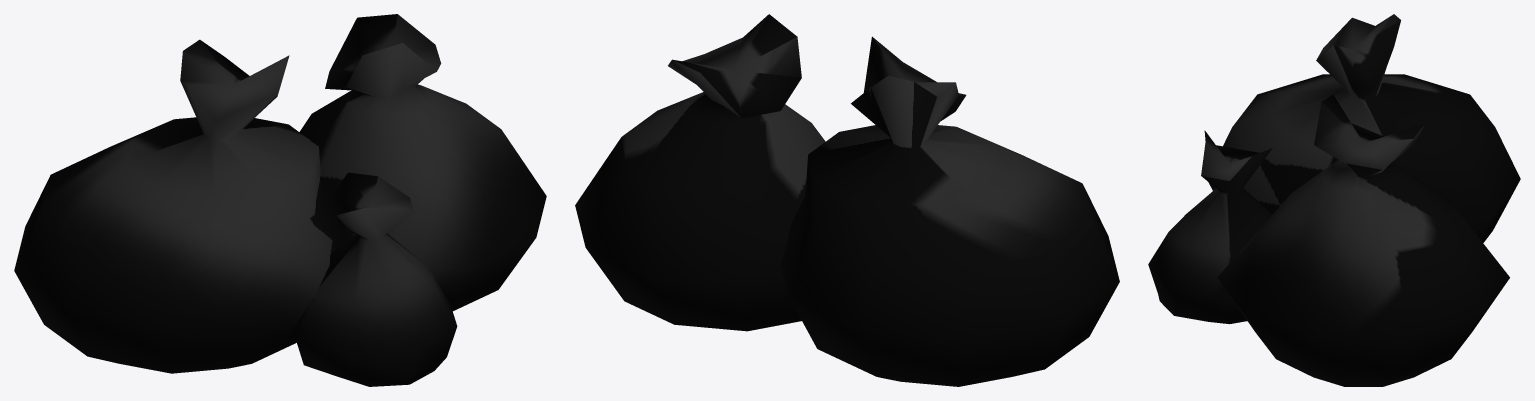
File: CityKit2.fbx_TrashBag.fbx
3 renders of one model, left to right at view 1: azimuth 30°, elevation 25°; view 2: azimuth 150°, elevation 25°; view 3: azimuth 270°, elevation 25°, orthographic. The views are drawn at different scales.
Visible parts, largest first — view 1: TrashBag; view 2: TrashBag; view 3: TrashBag.
Boxes of the visible parts, x1,y1,x2,y2 form: TrashBag: (14,14,546,386); TrashBag: (575,14,1119,386); TrashBag: (1148,14,1520,386).
Size of the model in its own units: 293 by 160 by 214.
Materials: 1 (1 with a texture image).
